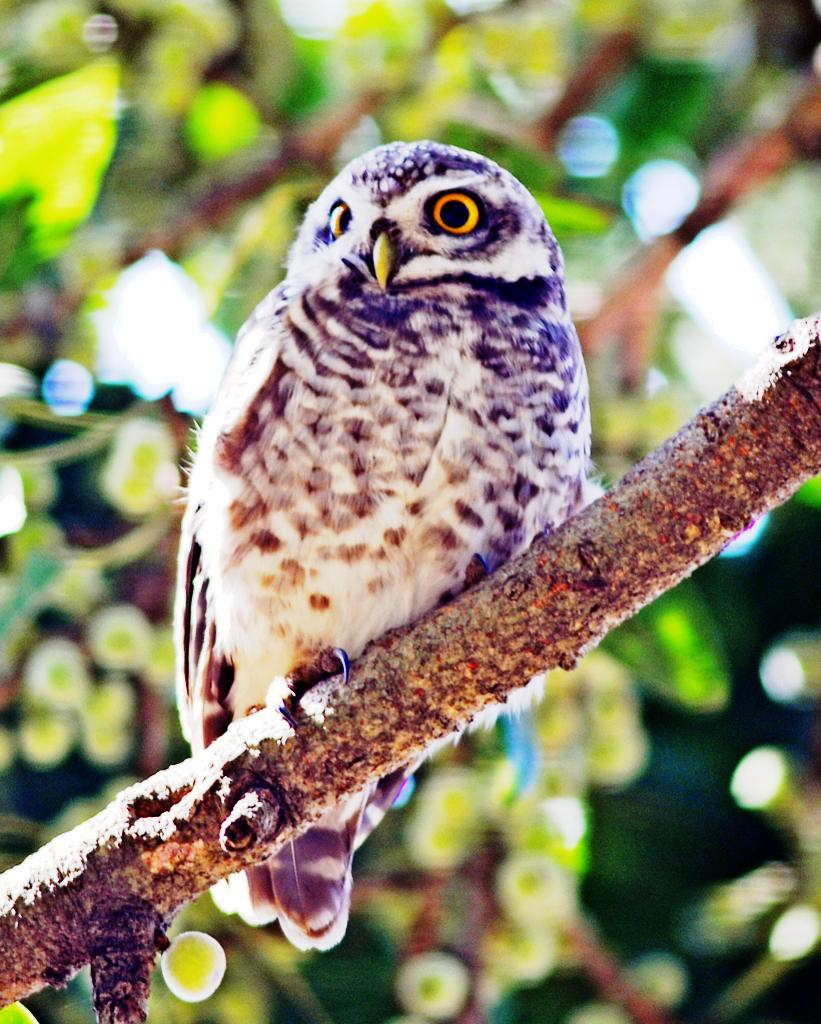Owl: (164, 139, 596, 953)
